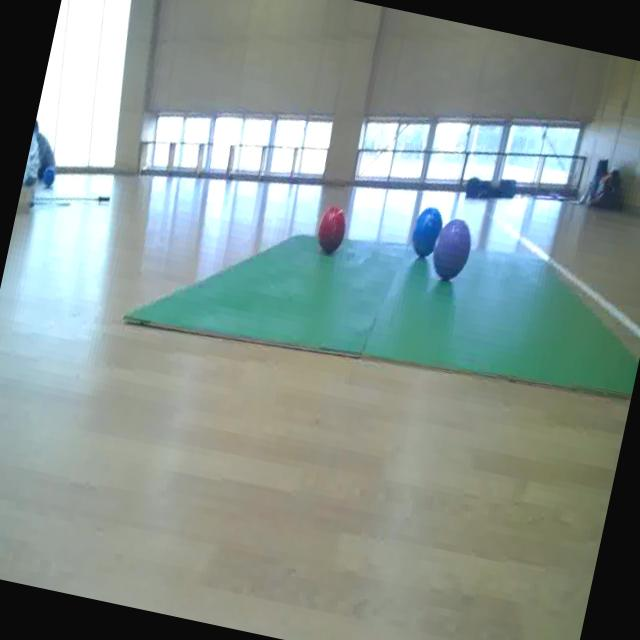blue_ball: (404, 198, 450, 266)
purple_ball: (428, 219, 476, 289)
red_ball: (307, 198, 360, 264)
